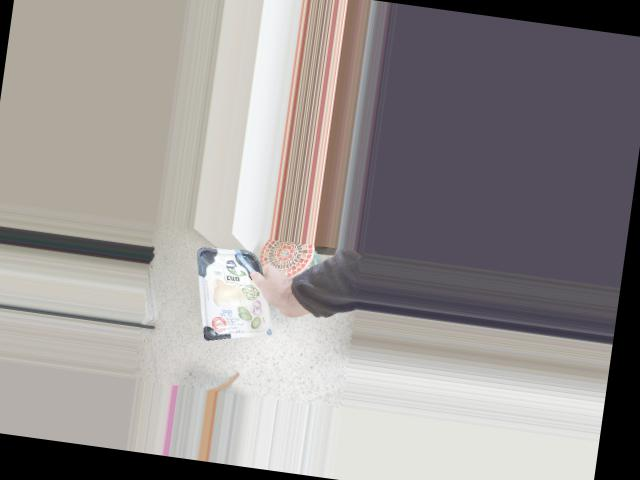cheese: (193, 238, 274, 348)
